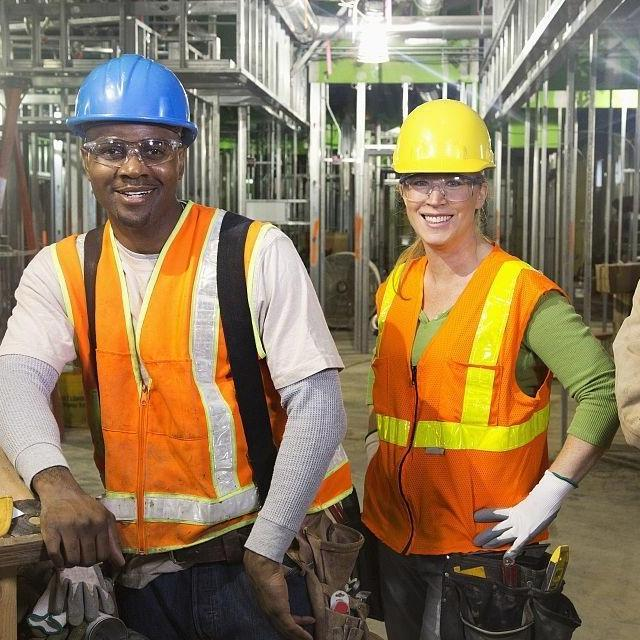Gloves: (471, 470, 577, 560), (58, 563, 119, 625), (26, 589, 96, 640), (363, 427, 380, 460)
Hardhat: (65, 57, 202, 139), (391, 101, 495, 176)
NO-Mask: (95, 177, 174, 225), (409, 203, 467, 244)
Person: (0, 54, 346, 640), (356, 97, 619, 640)
Safety Vest: (43, 201, 359, 557), (353, 246, 572, 554)
